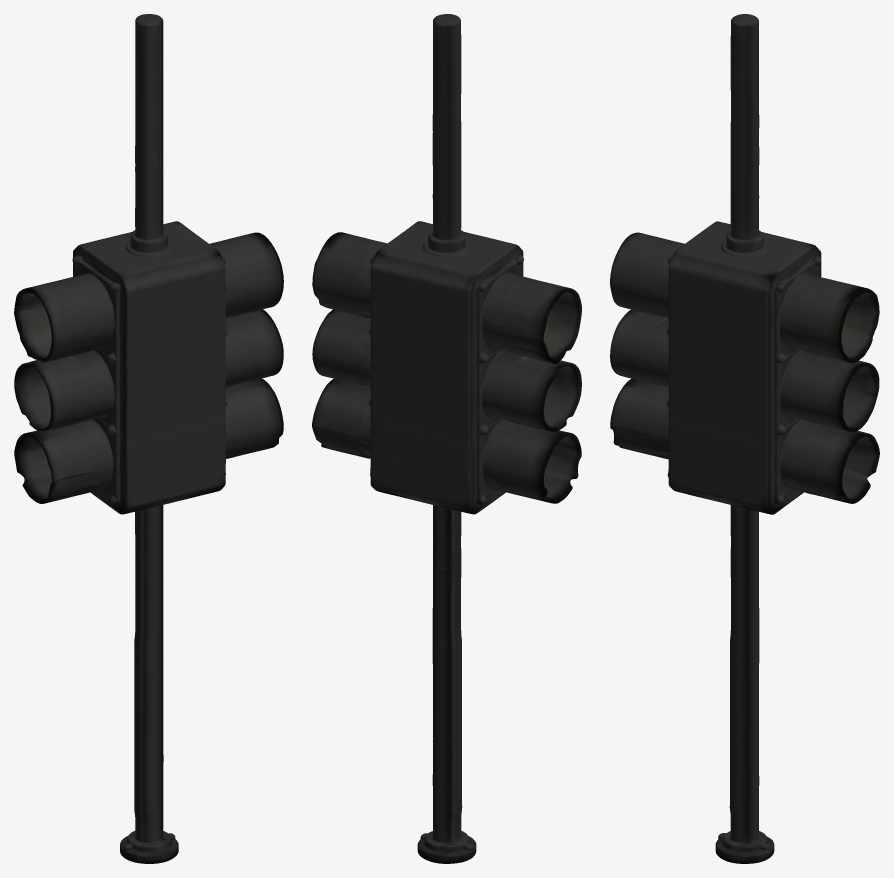
The model's file is modern-city-traffic-light-on-a-black-met-cmue8a4o.glb.
3 renders of one model, left to right at view 1: azimuth 30°, elevation 25°; view 2: azimuth 150°, elevation 25°; view 3: azimuth 330°, elevation 25°, orthographic.
Parts seen in each view (by area): view 1: tripo_node_d21d6d91-ebda-4e52-88f5-44e4452f5390; view 2: tripo_node_d21d6d91-ebda-4e52-88f5-44e4452f5390; view 3: tripo_node_d21d6d91-ebda-4e52-88f5-44e4452f5390.
Part boxes in pixels (x1,y1,x2,y2): tripo_node_d21d6d91-ebda-4e52-88f5-44e4452f5390: [14, 14, 283, 863]; tripo_node_d21d6d91-ebda-4e52-88f5-44e4452f5390: [312, 14, 581, 863]; tripo_node_d21d6d91-ebda-4e52-88f5-44e4452f5390: [610, 14, 879, 863].
Size of the model in its own units: 0.2906 by 1 by 0.119.
1 material, 1 textured.
